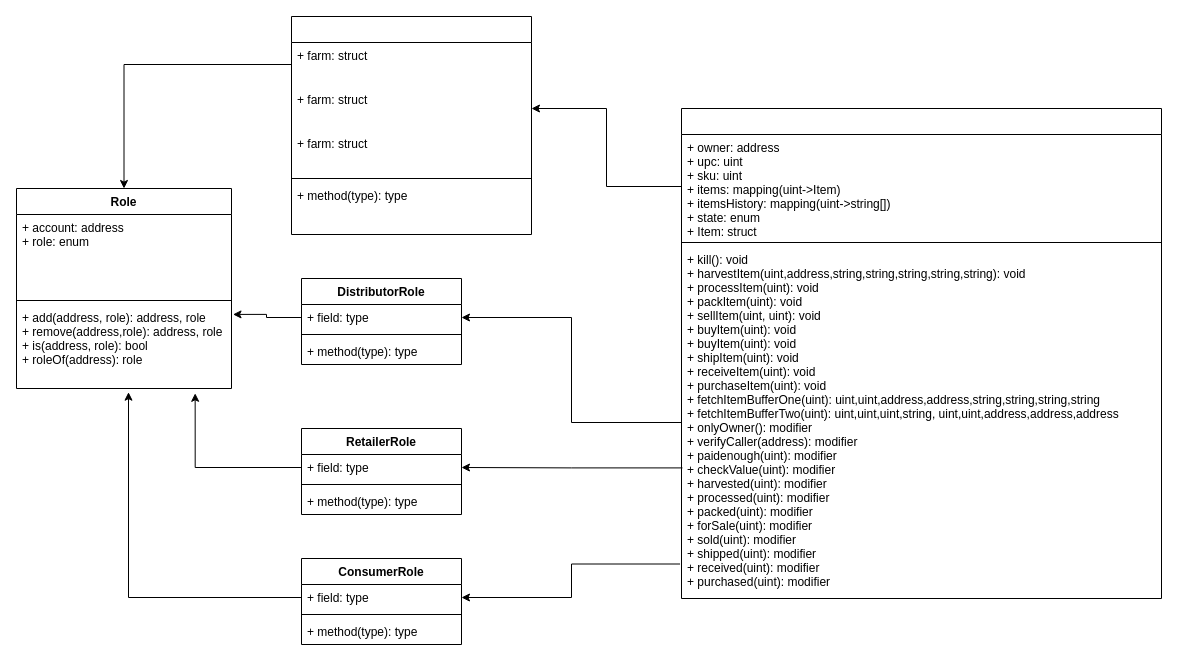
Image size: 1178x661. Some labels were removed from this diagram. The box of each missing label's shape, as (x1, y1, x2, y2) in pixels:
FarmerRole: (290, 16, 532, 234)
Supplychain: (680, 108, 1162, 598)
